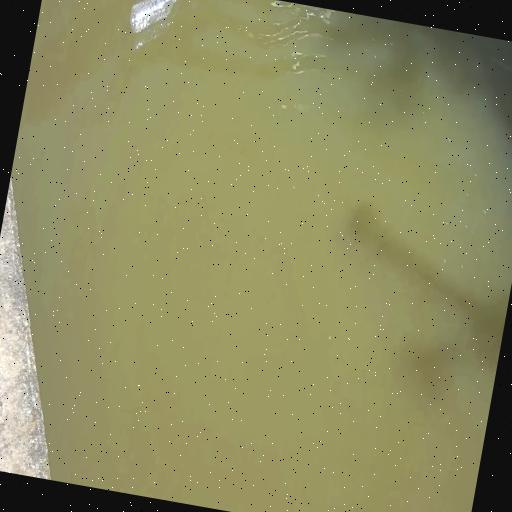plastic: (125, 0, 180, 40)
